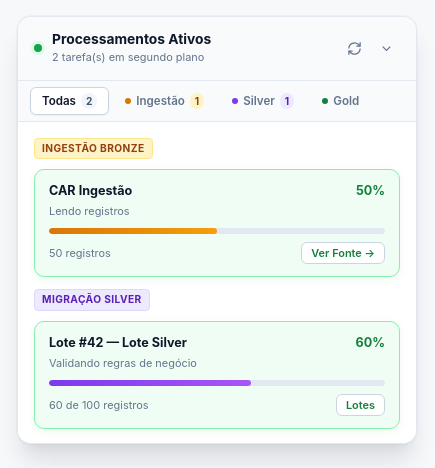
Test case: PainelMonitoramentoGlobal.vue › permite filtrar por abas Ingestão, Silver e Gold
The width and height of the screenshot is (435, 468).
Click the button with class "aba-btn" showing "Ingestão 1".
click(165, 101)  # box [113,87,216,115]
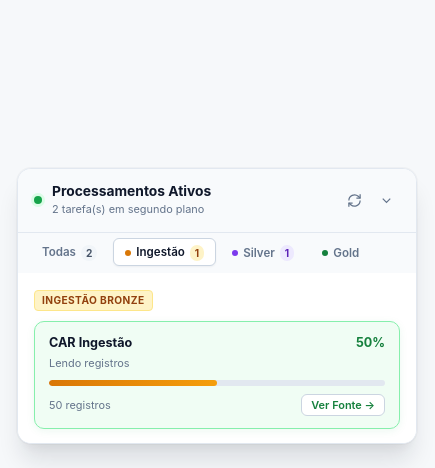
Check: the text "CAR Ingestão" is shown, box [49,334,132,353]
Check: the text "Lote Silver" is gone
# Filtra pela aba Silver
Click the button with class "aba-btn" showing "Silver 1".
click(263, 252)  # box [220,238,306,266]
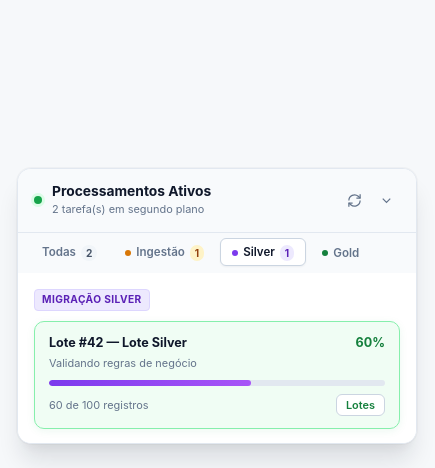
Check: the text "CAR Ingestão" is gone
Check: the text "Lote Silver" is shown, box [49,335,187,350]
